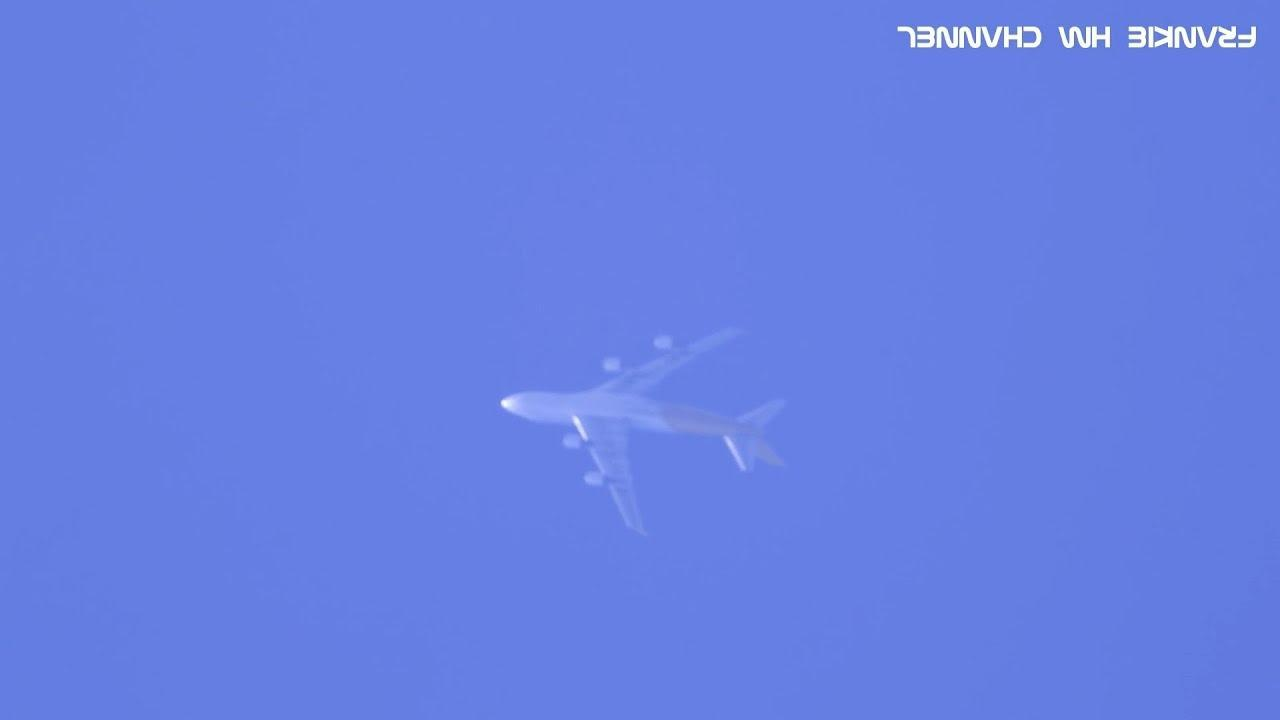Plane: (413, 299, 857, 533)
